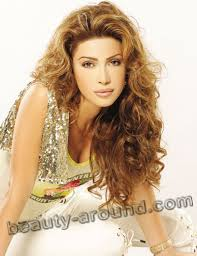middle_eastern_Female: (64, 15, 140, 111)
